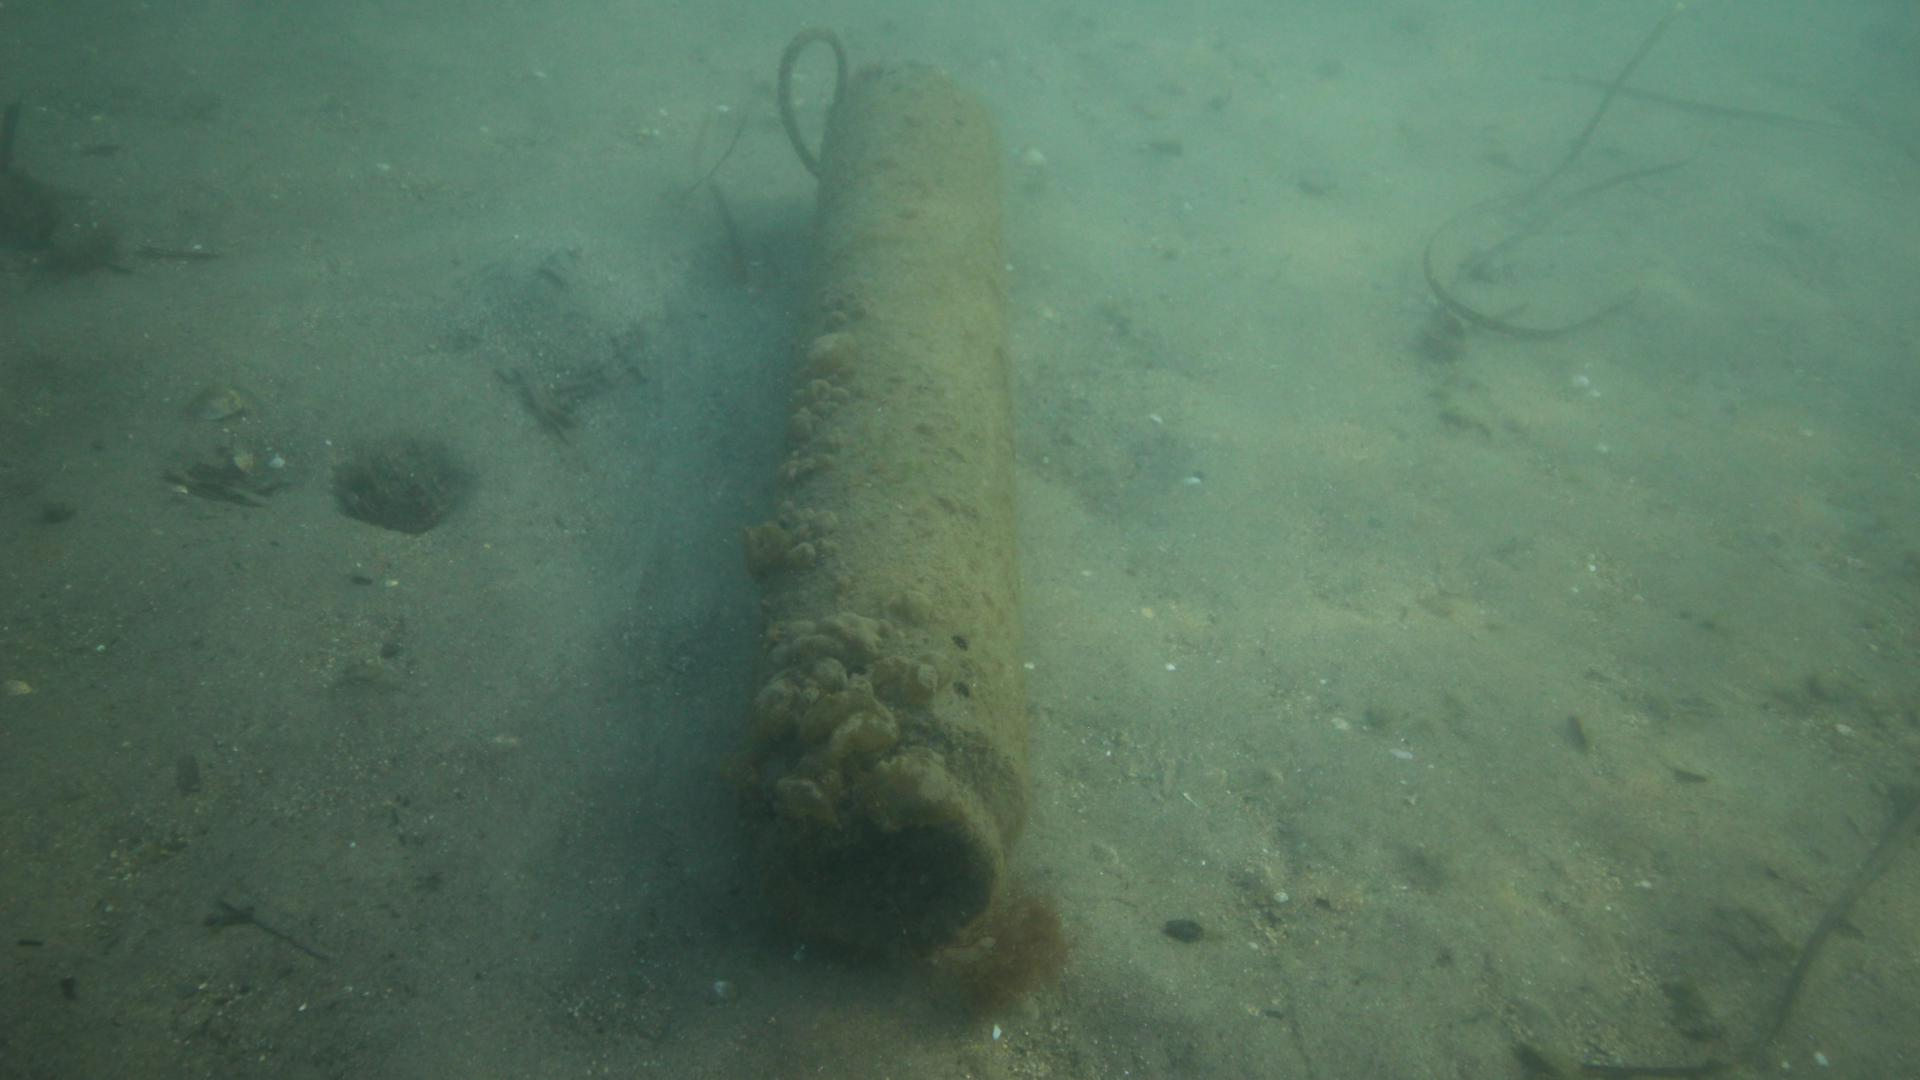eel fish trap: (742, 58, 1027, 953)
rope: (775, 22, 849, 177)
